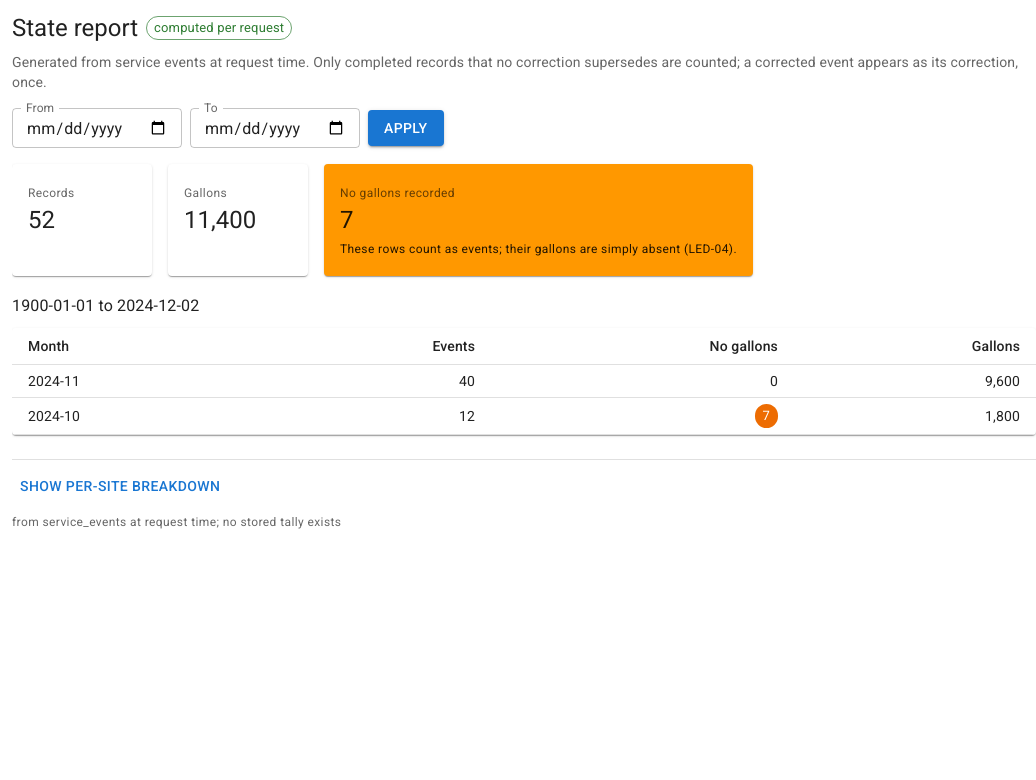
Scenario: T-LED-02: the state report screen › the per-site breakdown is opt-in and shows refusal-to-guess sites
Check: the heading "52" is shown, box [28, 206, 55, 234]
Click the button "Show per-site breakdown" at (120, 486), box [12, 468, 228, 505]
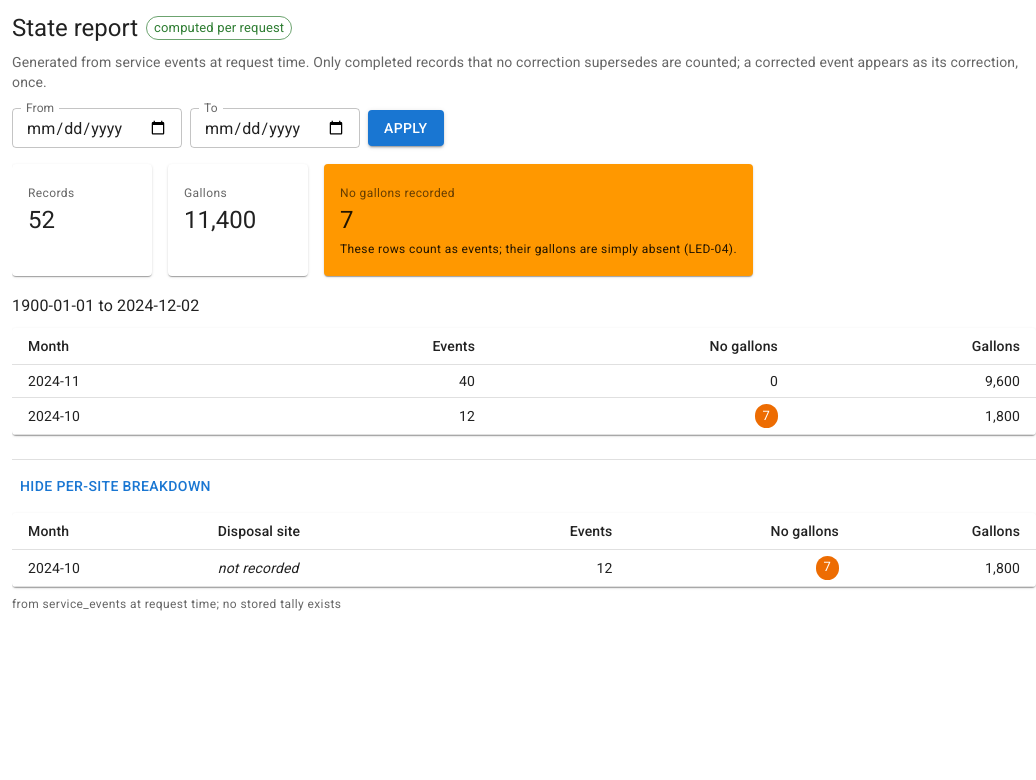
Check: the text "not recorded" is shown, box [202, 550, 460, 587]
